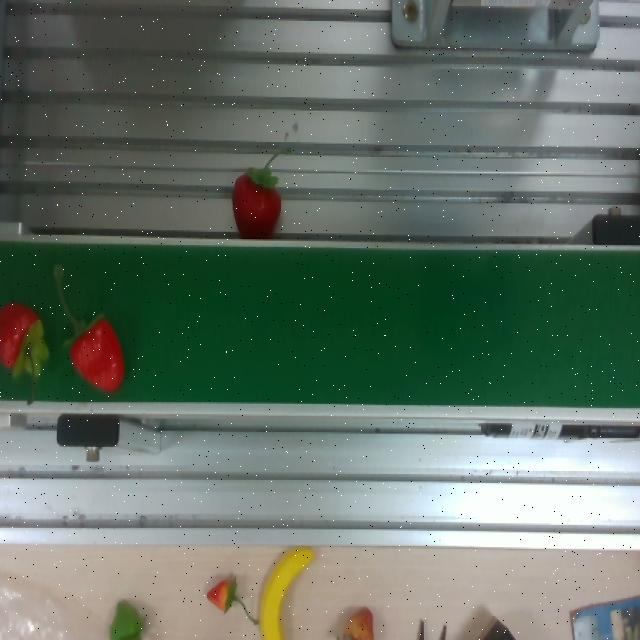Small Ripe Strawberry: (69, 302, 133, 389), (0, 302, 52, 394)
conveyor: (0, 232, 640, 418)
